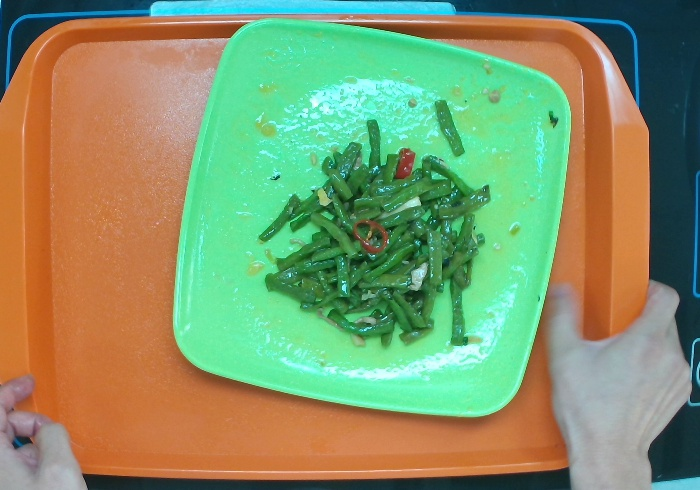ZNLD-Lv_Fang_Pan: (169, 16, 572, 418)
